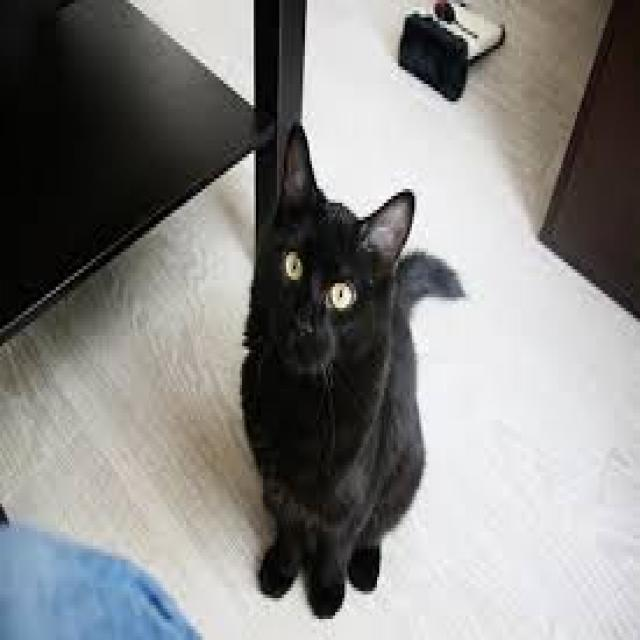black cat: (234, 117, 463, 618)
